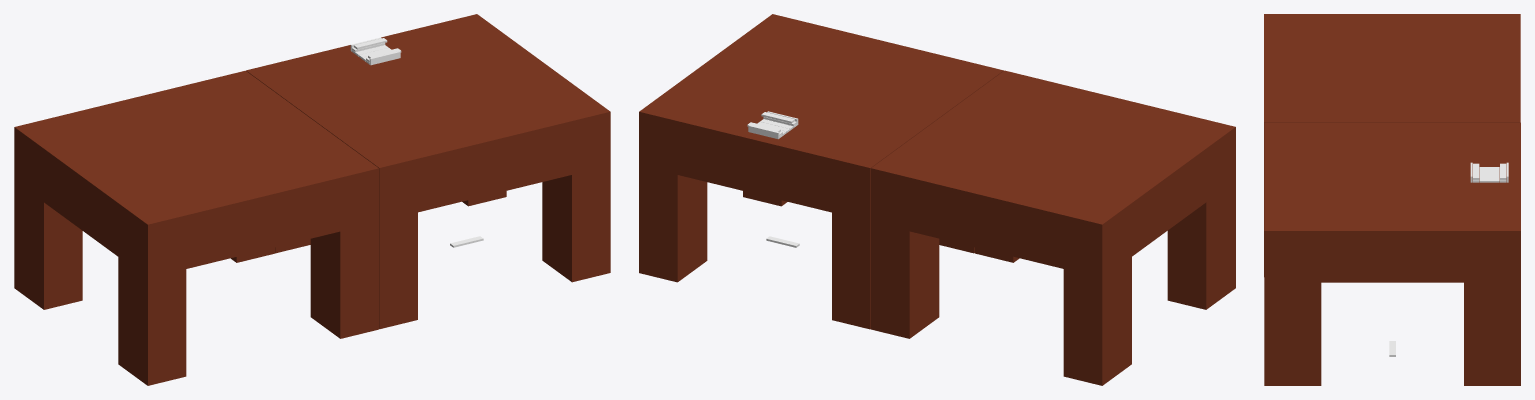
The model's file is keva_single_station.dae.
The picture shows the model from 3 angles, left to right: view 1: azimuth 30°, elevation 25°; view 2: azimuth 150°, elevation 25°; view 3: azimuth 270°, elevation 25°; orthographic projection. The views are drawn at different scales.
Visible parts, largest first — view 1: base (×7); view 2: base (×7); view 3: base (×4).
Boxes of the visible parts, bbox=[...] form: base (×7): bbox=[14, 14, 610, 385]; base (×7): bbox=[639, 14, 1235, 385]; base (×4): bbox=[1264, 14, 1520, 385].
Size of the model in its own units: 1.8 by 0.9009 by 0.6235.
